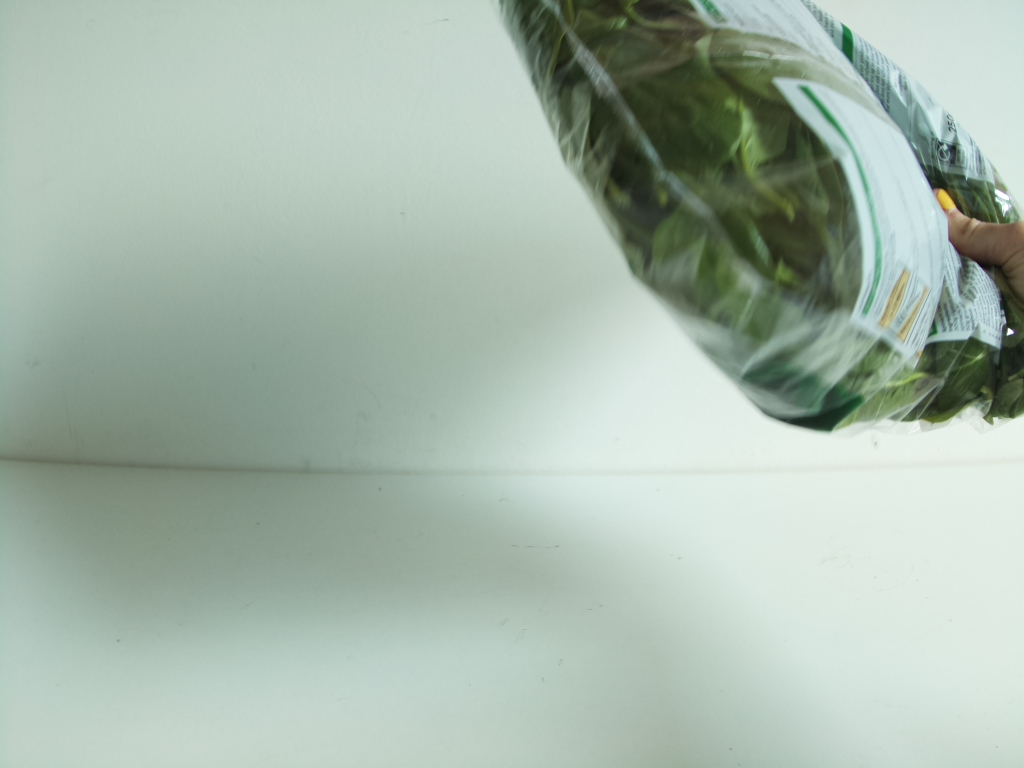salad: (491, 1, 1024, 440)
